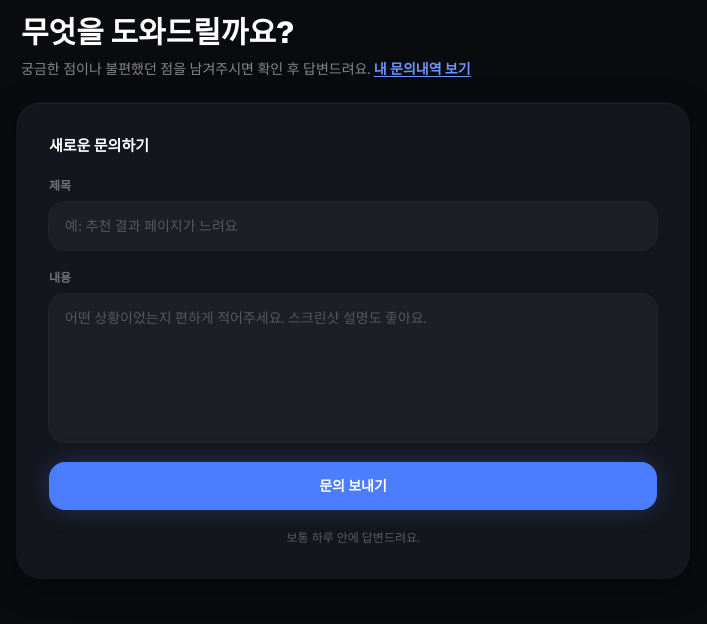
Test case: /support 문의 제출 › 제목이 비어 있으면 제출하지 않고 에러 문구를 보여준다
Step 1. Type "충분히 긴 문의 내용입니다." into the text box labelled "내용" → (353, 368), box [49,294,657,442]
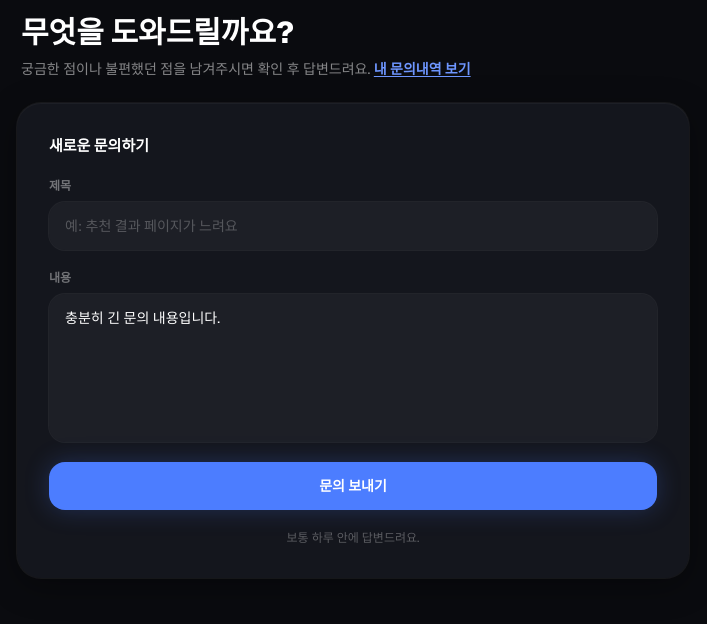
Step 2. Click the button "문의 보내기" → (353, 486), box [49,462,657,510]
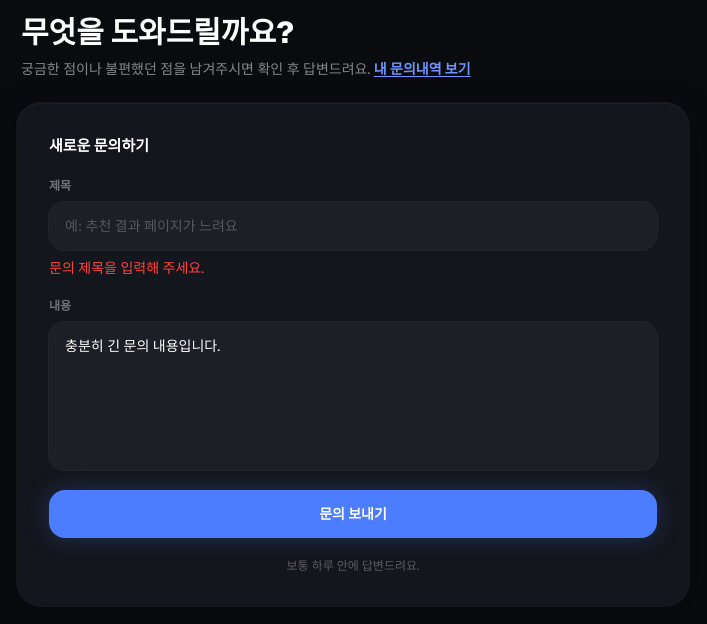
Now the text "문의 제목을 입력해 주세요." is shown, box [49,258,204,276]
